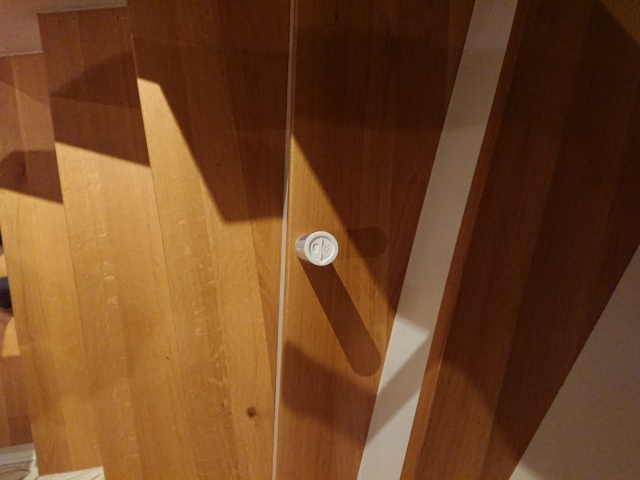Solana Pag Fine Sea Salt 250g: (293, 228, 341, 269)
